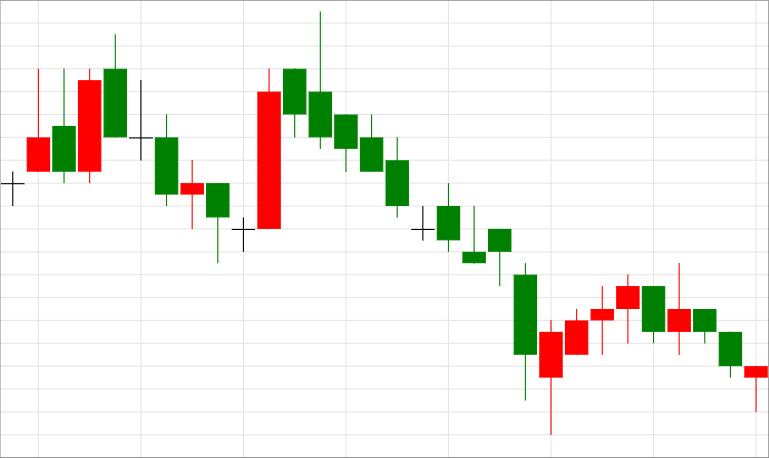hammer_rise: (104, 34, 229, 262)
morning_star_rise: (104, 34, 281, 263)
